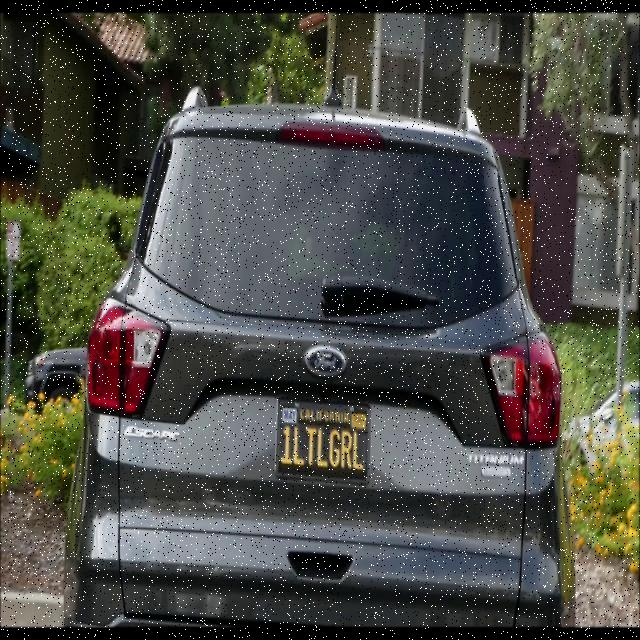licenseplate: (278, 396, 374, 480)
